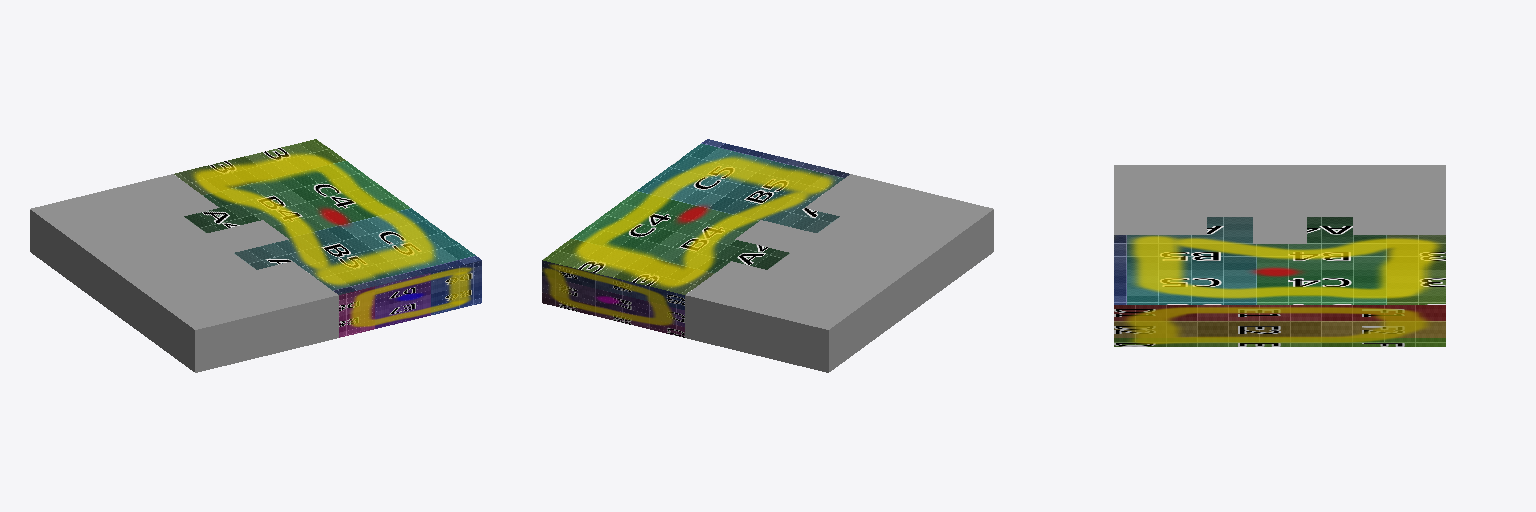
3 renders of one model, left to right at view 1: azimuth 30°, elevation 25°; view 2: azimuth 150°, elevation 25°; view 3: azimuth 270°, elevation 25°, orthographic.
Visible parts, largest first — view 1: Cube.001_Cube.004, Cube_Cube.003; view 2: Cube.001_Cube.004, Cube_Cube.003; view 3: Cube_Cube.003, Cube.001_Cube.004.
Boxes of the visible parts, x1,y1,x2,y2 form: Cube.001_Cube.004: [30, 174, 338, 372]; Cube_Cube.003: [174, 139, 481, 337]; Cube.001_Cube.004: [685, 174, 993, 372]; Cube_Cube.003: [542, 139, 849, 337]; Cube_Cube.003: [1114, 217, 1445, 346]; Cube.001_Cube.004: [1114, 165, 1445, 243].
Bounding box in the file's own units: 7 × 1 × 7.
Materials: 2 (1 with a texture image).